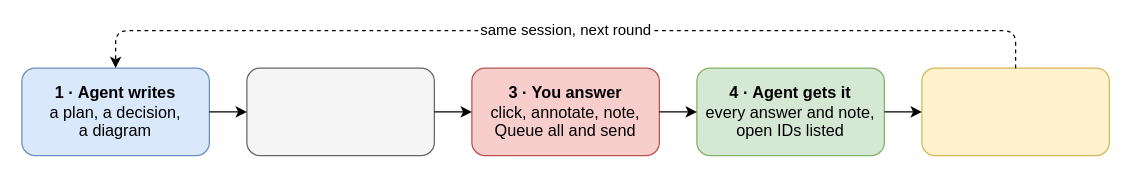
Image size: 1131x178. Some labels were removed from this diagram. The shapes that lost their labels are listed below. From the top down, each one's box as (x1, y1, x2, y2) in pixels, then its label:
(246, 67, 434, 156): 2 · Lavish opens it in the browser or beside the chat
(921, 67, 1109, 156): 5 · Agent replies in the page, then builds round 2
